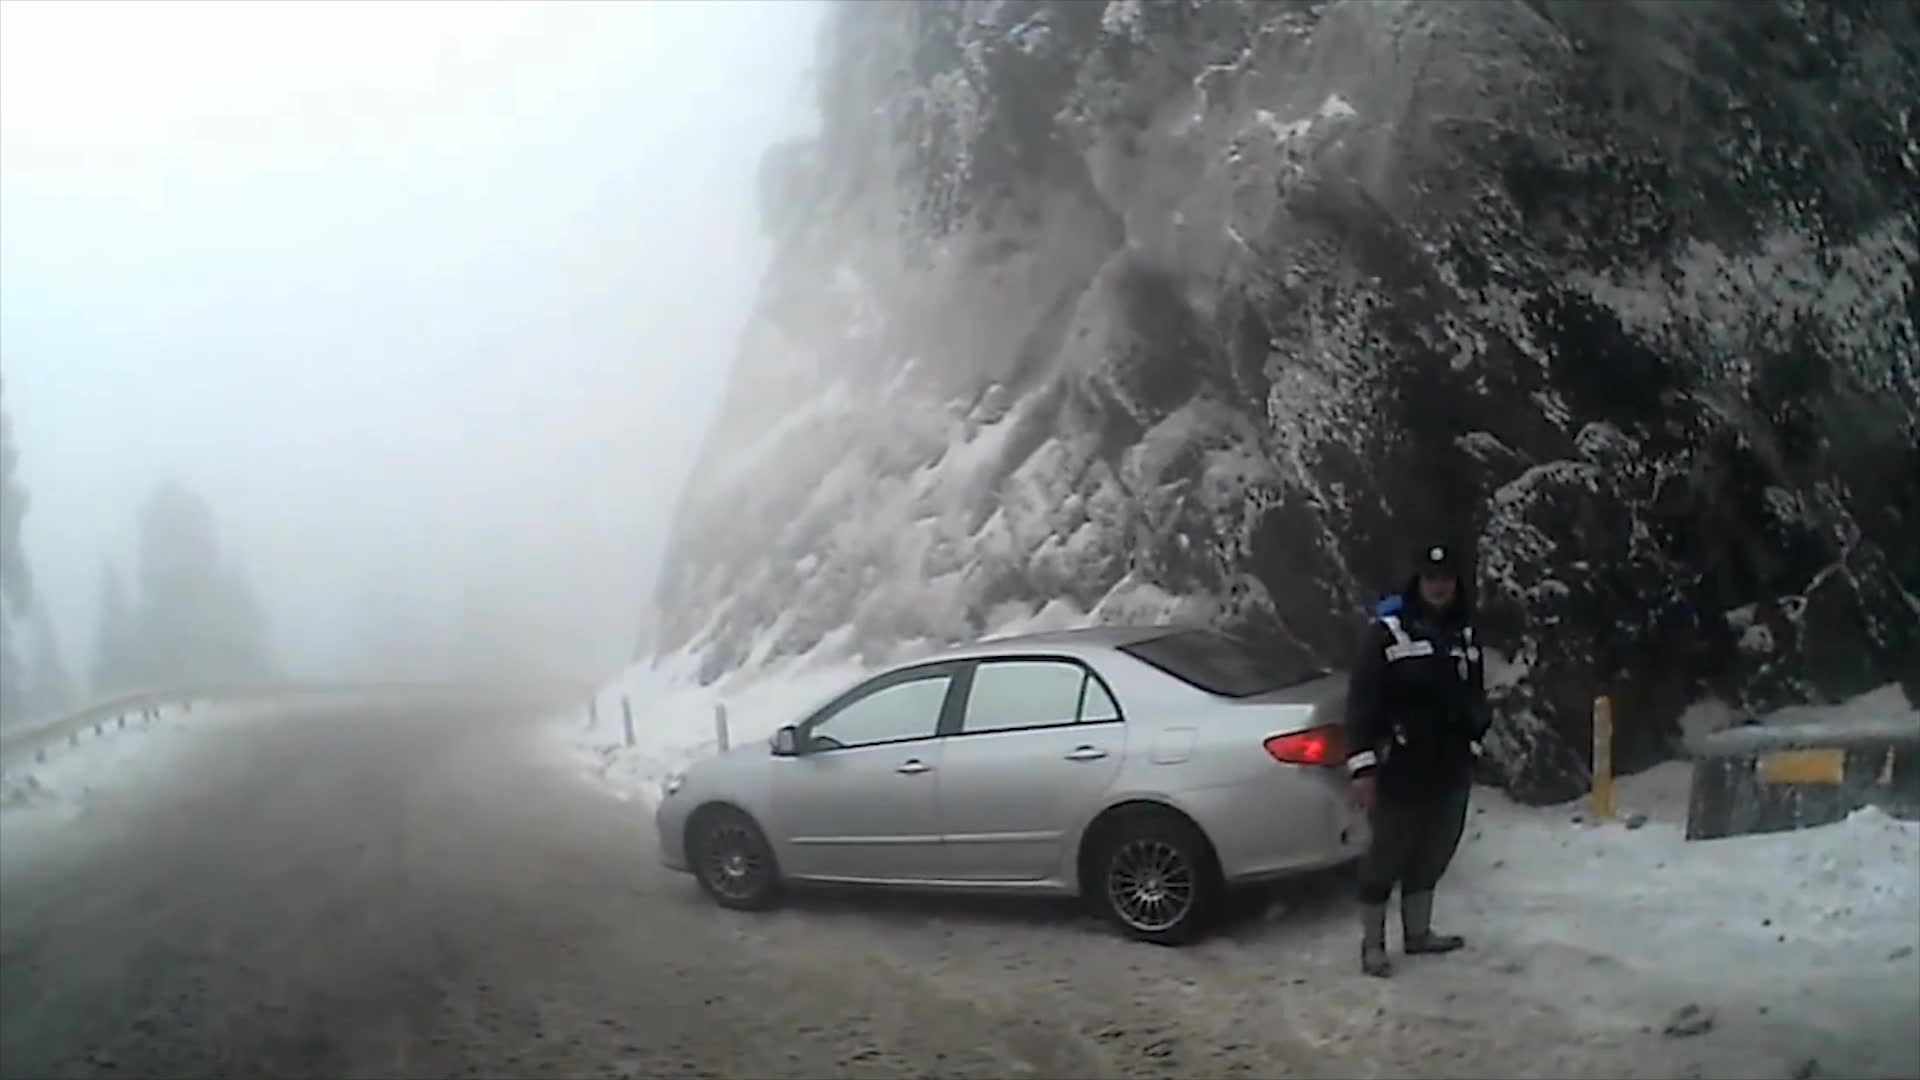pedestrian: (1332, 537, 1492, 973)
vehicle: (652, 622, 1440, 947)
